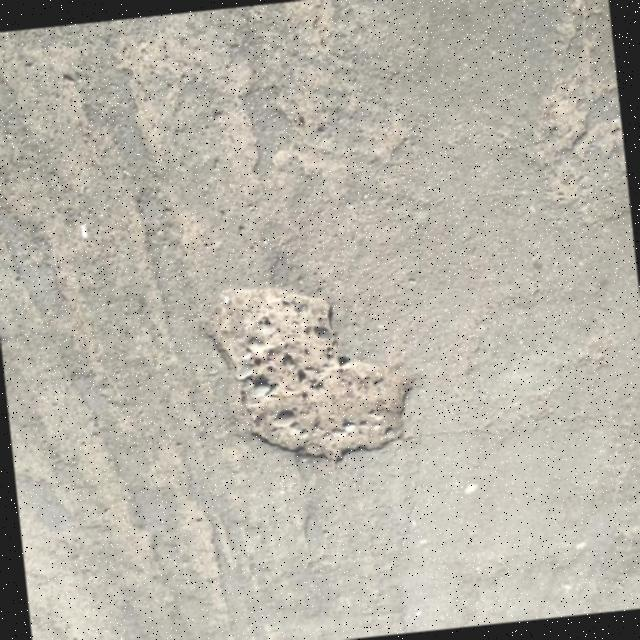Pothole: (213, 284, 414, 463)
